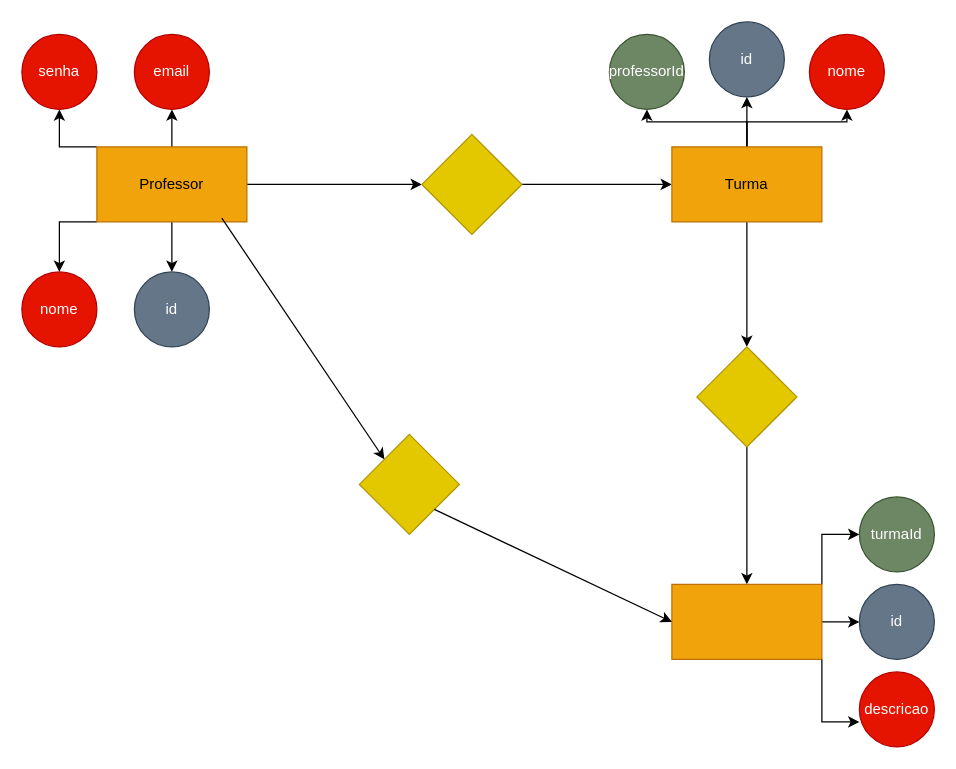
Image size: 956x769. Some labels were removed from this diagram. The shapes that lost their labels are listed below. From the top down, each one's box as (x1, y1, x2, y2) in pixels, then its label:
(421, 133, 522, 234): Cria
(696, 346, 797, 447): Tem
(358, 433, 459, 534): Faz
(671, 583, 822, 659): Atividade
